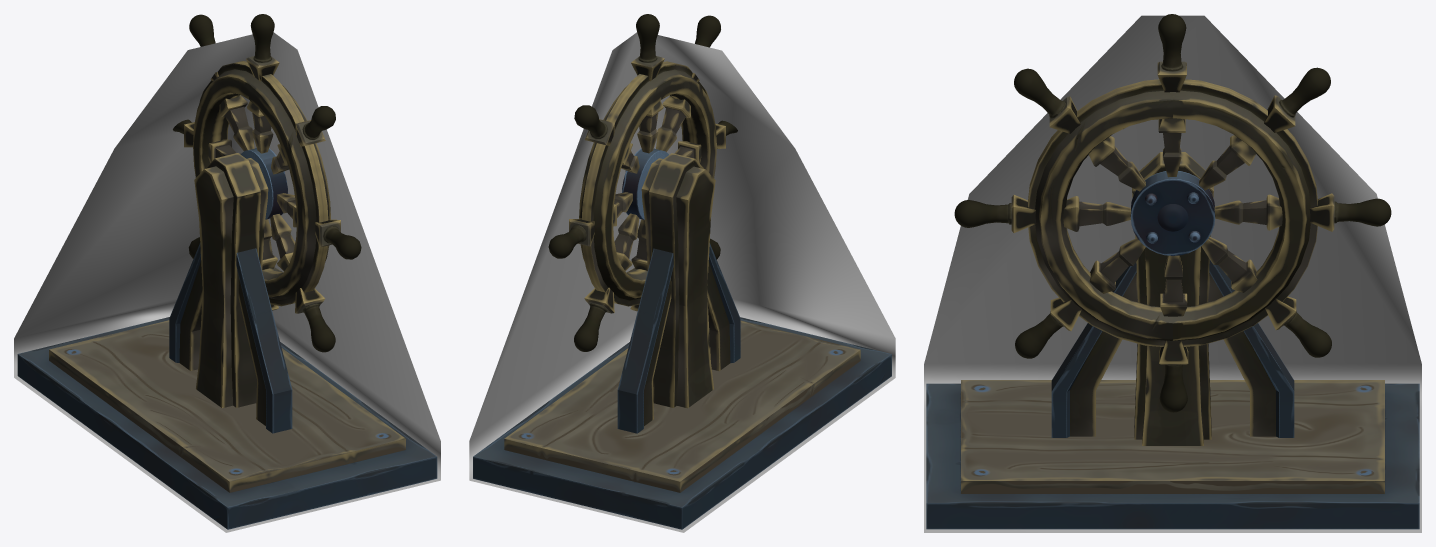
File: SM_Ship_Wheel.gltf
3 renders of one model, left to right at view 1: azimuth 30°, elevation 25°; view 2: azimuth 150°, elevation 25°; view 3: azimuth 270°, elevation 25°, orthographic. The views are drawn at different scales.
Visible parts, largest first — view 1: SM_Ship_Wheel_LOD0, SM_Ship_Wheel_ConvexHulls; view 2: SM_Ship_Wheel_LOD0, SM_Ship_Wheel_ConvexHulls; view 3: SM_Ship_Wheel_LOD0, SM_Ship_Wheel_ConvexHulls.
Boxes of the visible parts, x1,y1,x2,y2 form: SM_Ship_Wheel_LOD0: (17, 14, 437, 529); SM_Ship_Wheel_ConvexHulls: (14, 32, 440, 532); SM_Ship_Wheel_LOD0: (473, 14, 891, 529); SM_Ship_Wheel_ConvexHulls: (469, 32, 895, 532); SM_Ship_Wheel_LOD0: (926, 14, 1419, 529); SM_Ship_Wheel_ConvexHulls: (924, 15, 1421, 532).
Size of what is drawn, in the model's own units: 0.7897 by 1.43 by 1.35.
2 materials, 1 textured.
